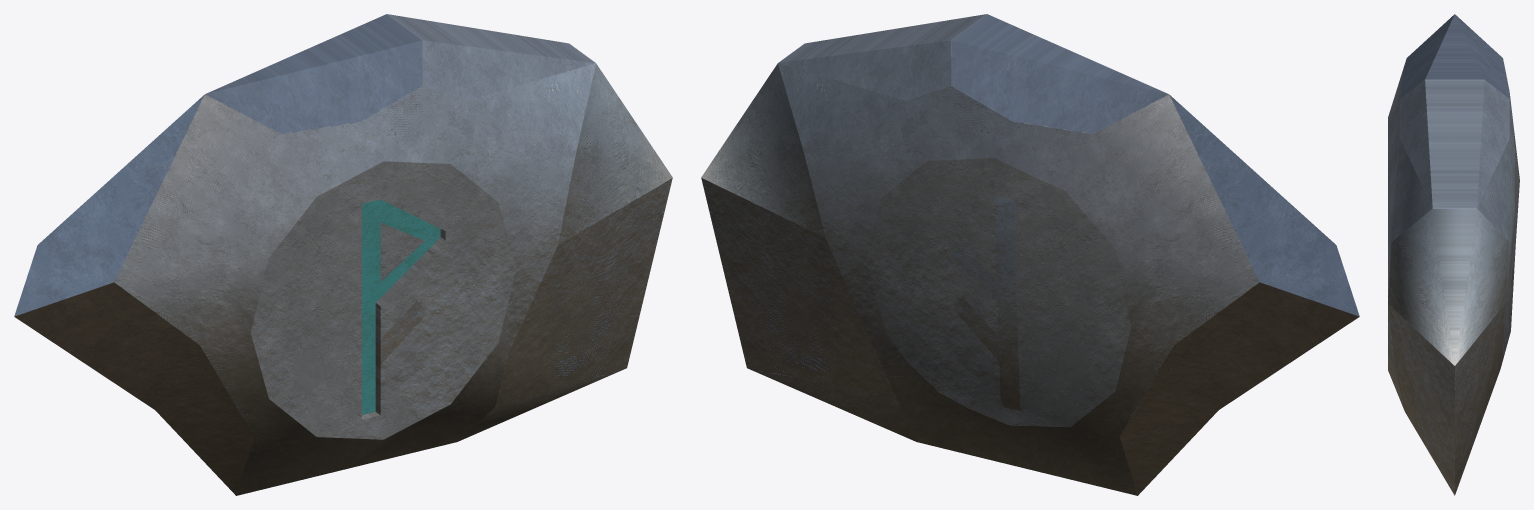
File: Charge_Neith.fbx
3 renders of one model, left to right at view 1: azimuth 30°, elevation 25°; view 2: azimuth 150°, elevation 25°; view 3: azimuth 270°, elevation 25°, orthographic. The views are drawn at different scales.
Parts seen in each view (by area): view 1: Char_Set's Wrath; view 2: Char_Set's Wrath; view 3: Char_Set's Wrath.
Part boxes in pixels (x1,y1,x2,y2): Char_Set's Wrath: (14,14,672,495); Char_Set's Wrath: (701,14,1359,495); Char_Set's Wrath: (1388,14,1519,495).
Bounding box in the file's own units: 67.57 × 41.92 × 14.18.
1 material, 1 textured.
